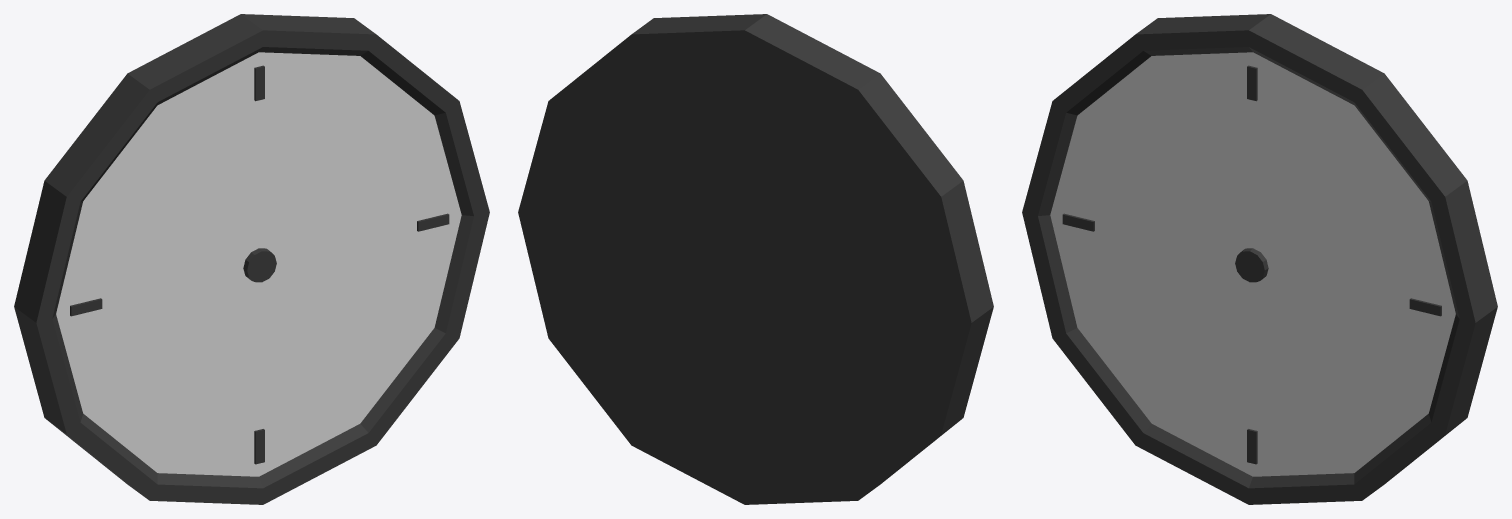
The model's file is Clock2_C1.fbx.
The picture shows the model from 3 angles, left to right: view 1: azimuth 30°, elevation 25°; view 2: azimuth 150°, elevation 25°; view 3: azimuth 330°, elevation 25°; orthographic projection.
Parts seen in each view (by area): view 1: Clock2_C1; view 2: Clock2_C1; view 3: Clock2_C1.
Part boxes in pixels (<box>): Clock2_C1: <box>14,14,489,504</box>; Clock2_C1: <box>518,14,993,504</box>; Clock2_C1: <box>1022,14,1497,504</box>.
Size of the model in its own units: 36.55 by 36.55 by 3.12.
